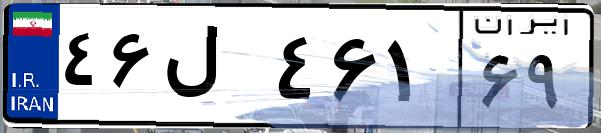1: (385, 28, 445, 110)
4: (270, 28, 330, 110), (57, 26, 110, 100)
6: (330, 28, 385, 110), (475, 38, 525, 113), (110, 28, 158, 98)
9: (525, 38, 570, 115)
ل: (158, 20, 270, 120)
